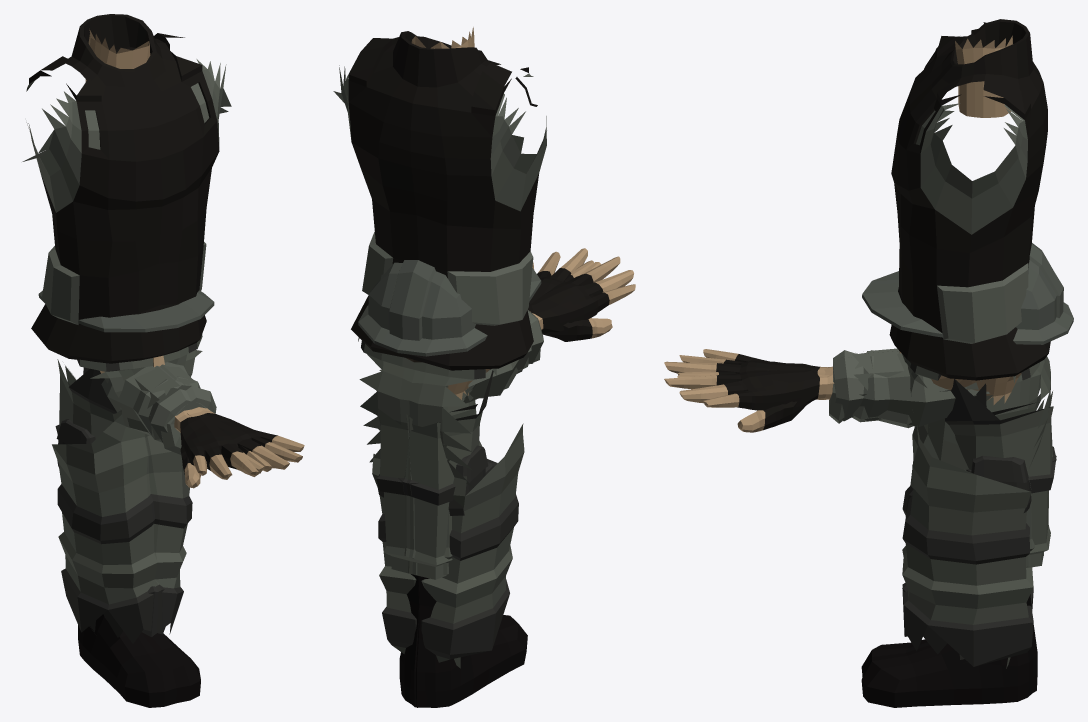
File: german.glb
3 views of the same model, side by side, from view 1: azimuth 30°, elevation 25°; view 2: azimuth 150°, elevation 25°; view 3: azimuth 270°, elevation 25° (orthographic). The views are drawn at different scales.
Visible parts, largest first — view 1: torso, thighL, foreR, shinR, thighR, foreL, shinL, head, upperR; view 2: torso, thighL, shinR, head, shinL, foreR, thighR, foreL; view 3: torso, thighR, shinL, foreL, shinR, head, foreR, thighL, upperL.
Boxes of the visible parts, x1,y1,x2,y2 form: torso: [22, 14, 231, 412]; thighL: [52, 407, 165, 643]; foreR: [101, 366, 273, 479]; shinR: [56, 365, 176, 707]; thighR: [89, 434, 192, 637]; foreL: [127, 362, 304, 488]; shinL: [55, 359, 200, 703]; head: [38, 290, 214, 373]; upperR: [104, 366, 192, 415]; torso: [333, 27, 546, 487]; thighL: [421, 385, 524, 662]; shinR: [376, 404, 527, 707]; head: [358, 260, 541, 399]; shinL: [377, 370, 493, 707]; foreR: [463, 256, 635, 403]; thighR: [372, 369, 497, 668]; foreL: [465, 248, 612, 400]; torso: [889, 19, 1050, 465]; thighR: [902, 425, 1033, 666]; shinL: [861, 383, 1056, 707]; foreL: [664, 353, 989, 426]; shinR: [861, 379, 1056, 693]; head: [862, 243, 1073, 404]; foreR: [664, 349, 992, 432]; thighL: [902, 374, 1043, 668]; upperL: [852, 351, 981, 395].
Size of the model in its own units: 0.3766 by 1.1 by 0.6166.
